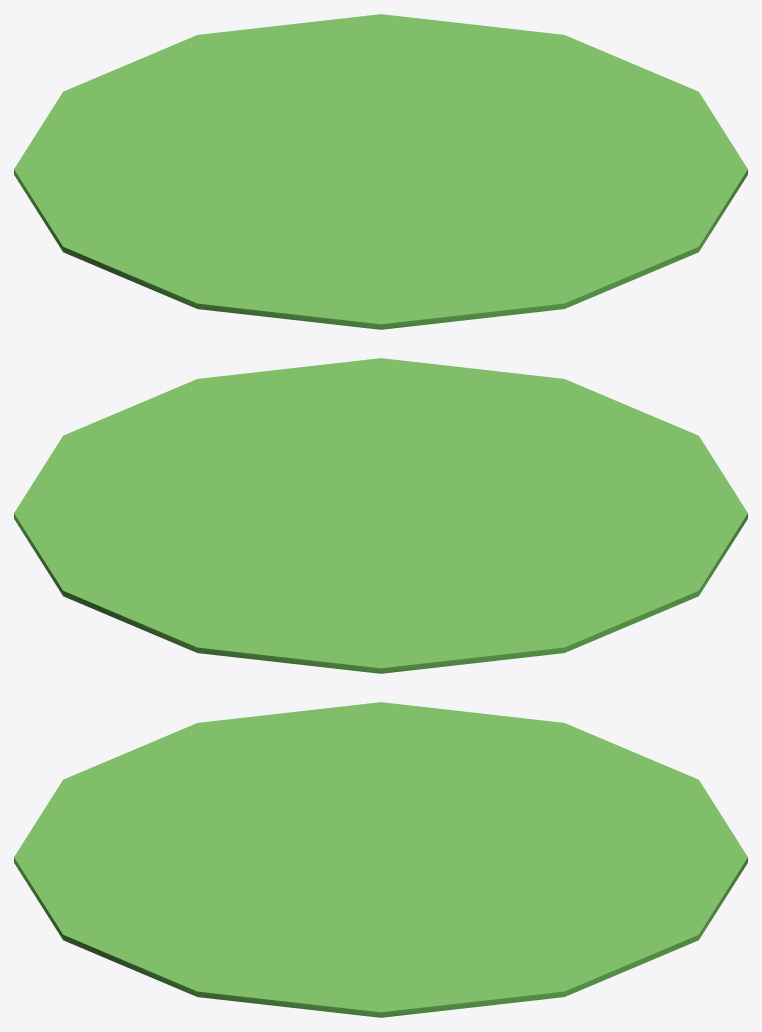
File: Ground_Arena.obj
3 views of the same model, one above another, from view 1: azimuth 30°, elevation 25°; view 2: azimuth 150°, elevation 25°; view 3: azimuth 270°, elevation 25° (orthographic).
Parts seen in each view (by area): view 1: Ground_Arena; view 2: Ground_Arena; view 3: Ground_Arena.
Part boxes in pixels (box(x1,y1,x2,y2)): Ground_Arena: box(14, 14, 747, 329); Ground_Arena: box(14, 358, 747, 673); Ground_Arena: box(14, 702, 747, 1017).
Size of the model in its own units: 30 by 1.45 by 30.
Materials: 1 (1 with a texture image).
